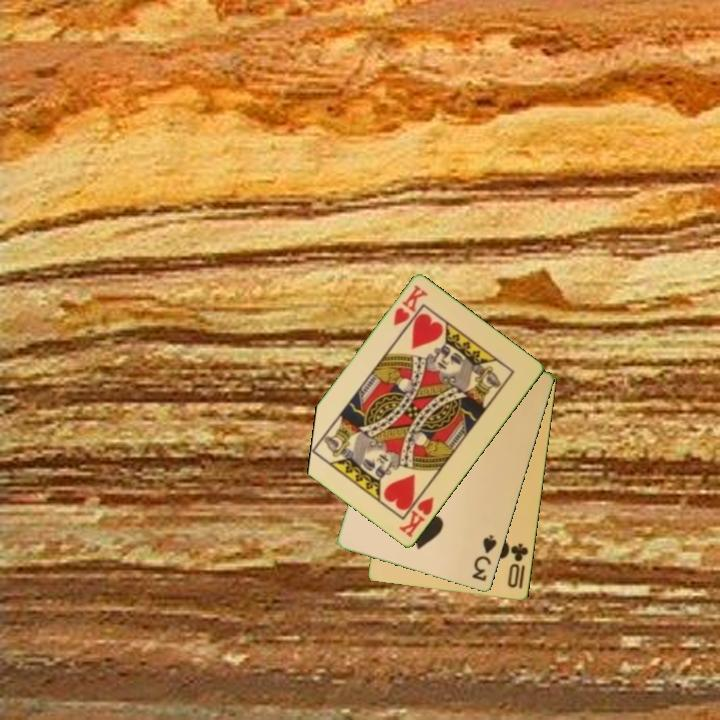10c: (504, 540, 531, 591)
3s: (469, 531, 500, 585)
Kh: (395, 486, 437, 541), (390, 282, 431, 329)
